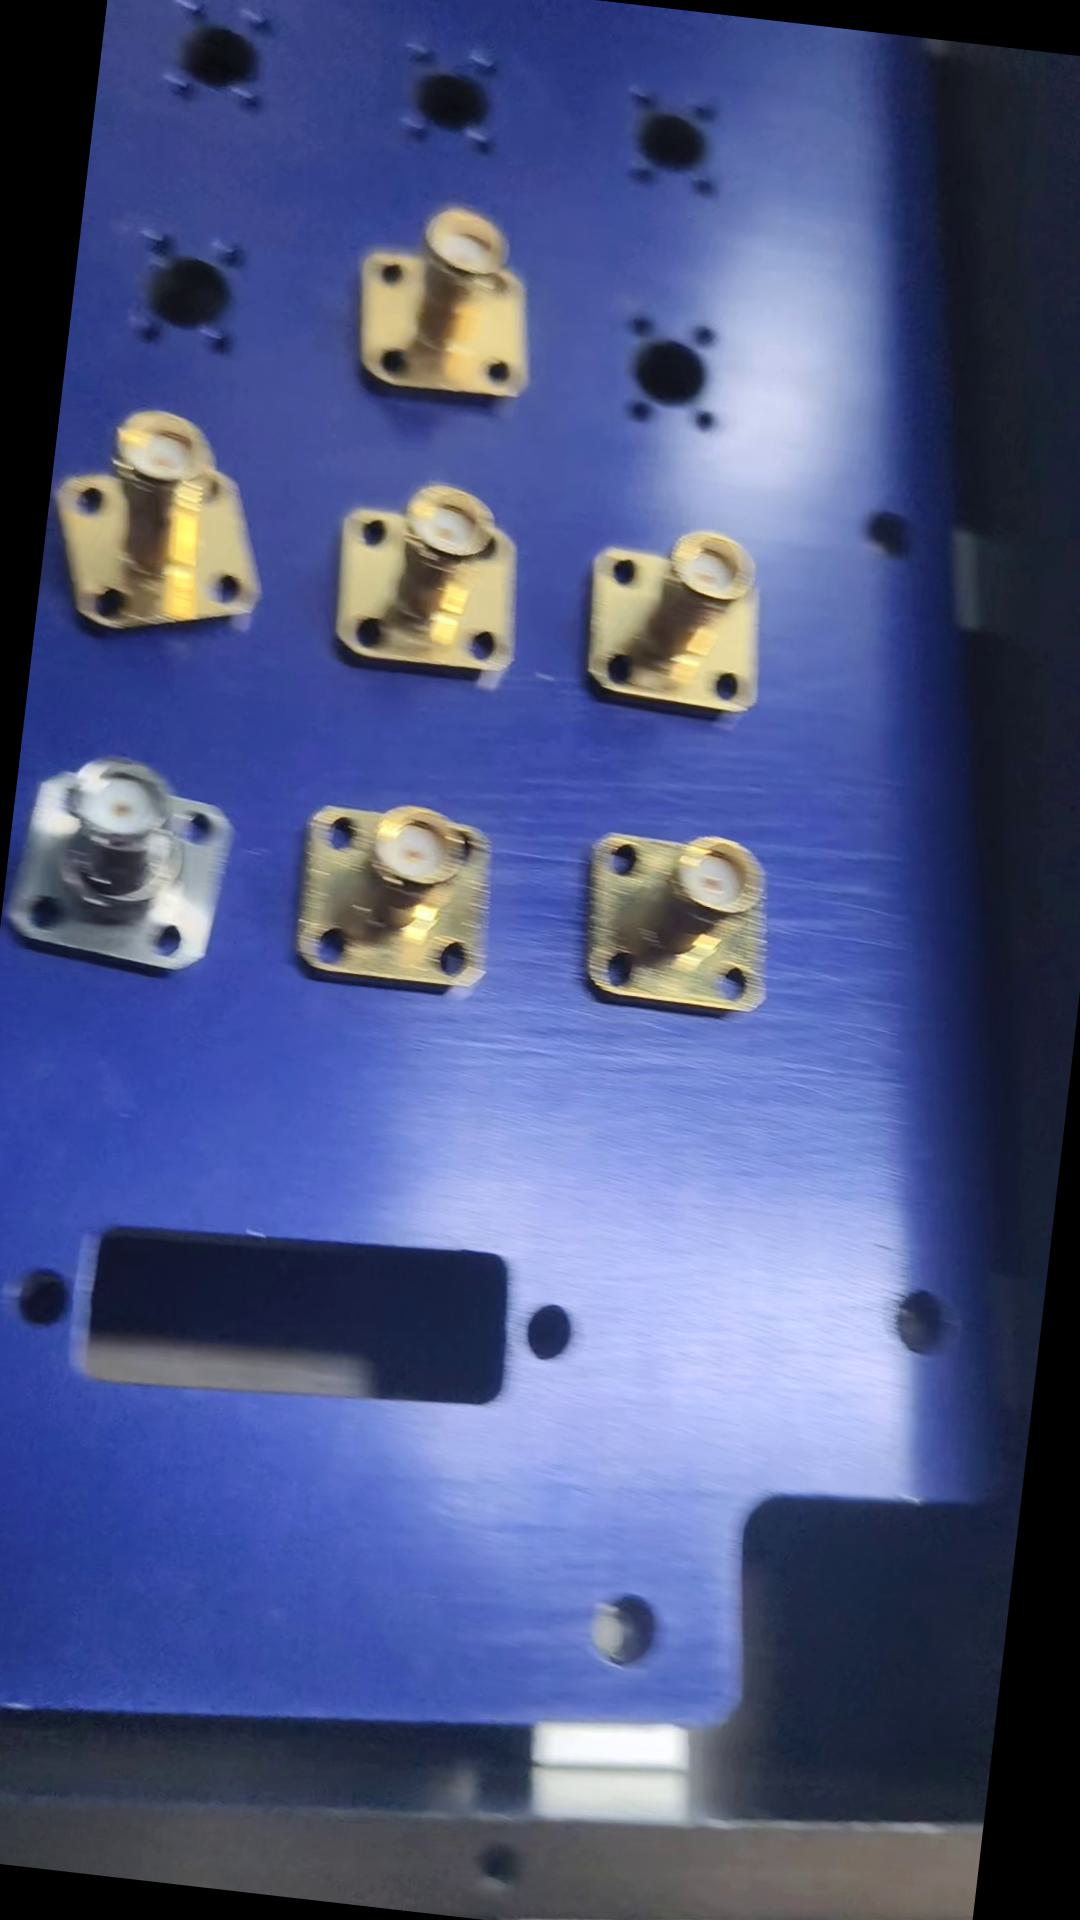SMA: (29, 398, 272, 651), (0, 748, 243, 986), (278, 791, 505, 1004), (320, 468, 535, 687), (331, 193, 541, 411), (567, 822, 785, 1029), (574, 517, 785, 720)
